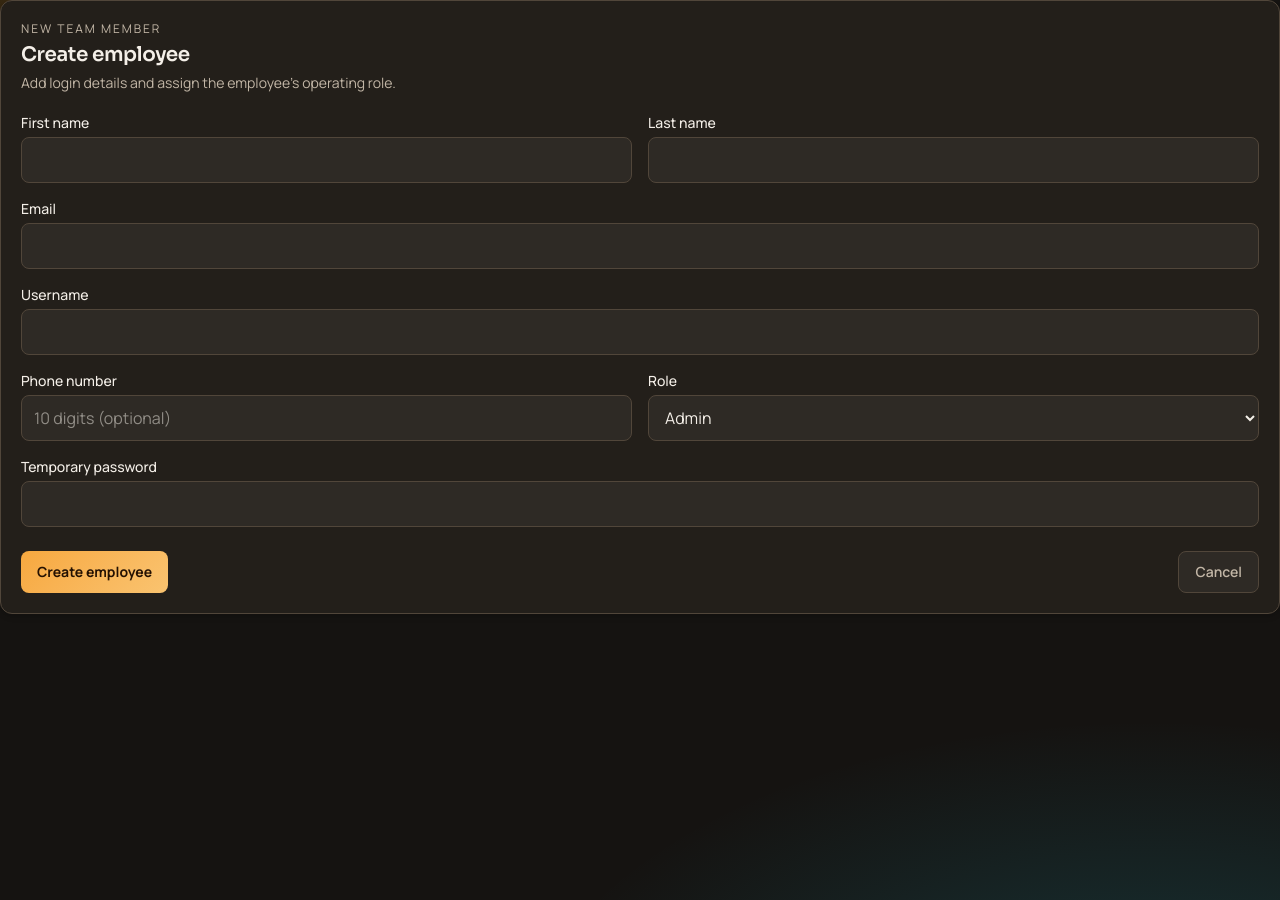
EmployeeForm › requires a password when creating an employee
The image size is (1280, 900).
Click the button "Create employee". click: (95, 572)
box: top-left (21, 551), bottom-right (168, 593)
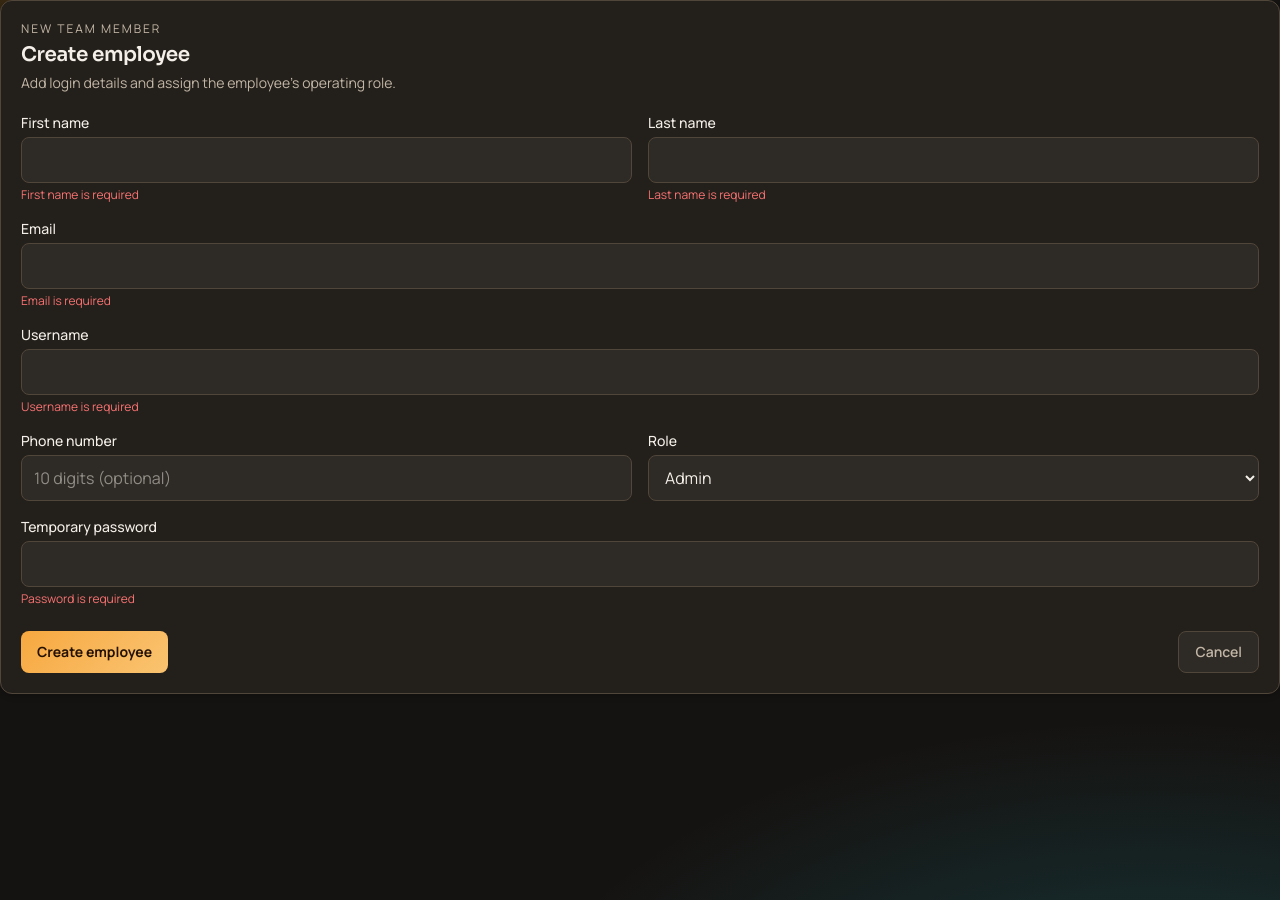
Check: the text "Password is required" is shown, box top-left (21, 590), bottom-right (135, 607)
